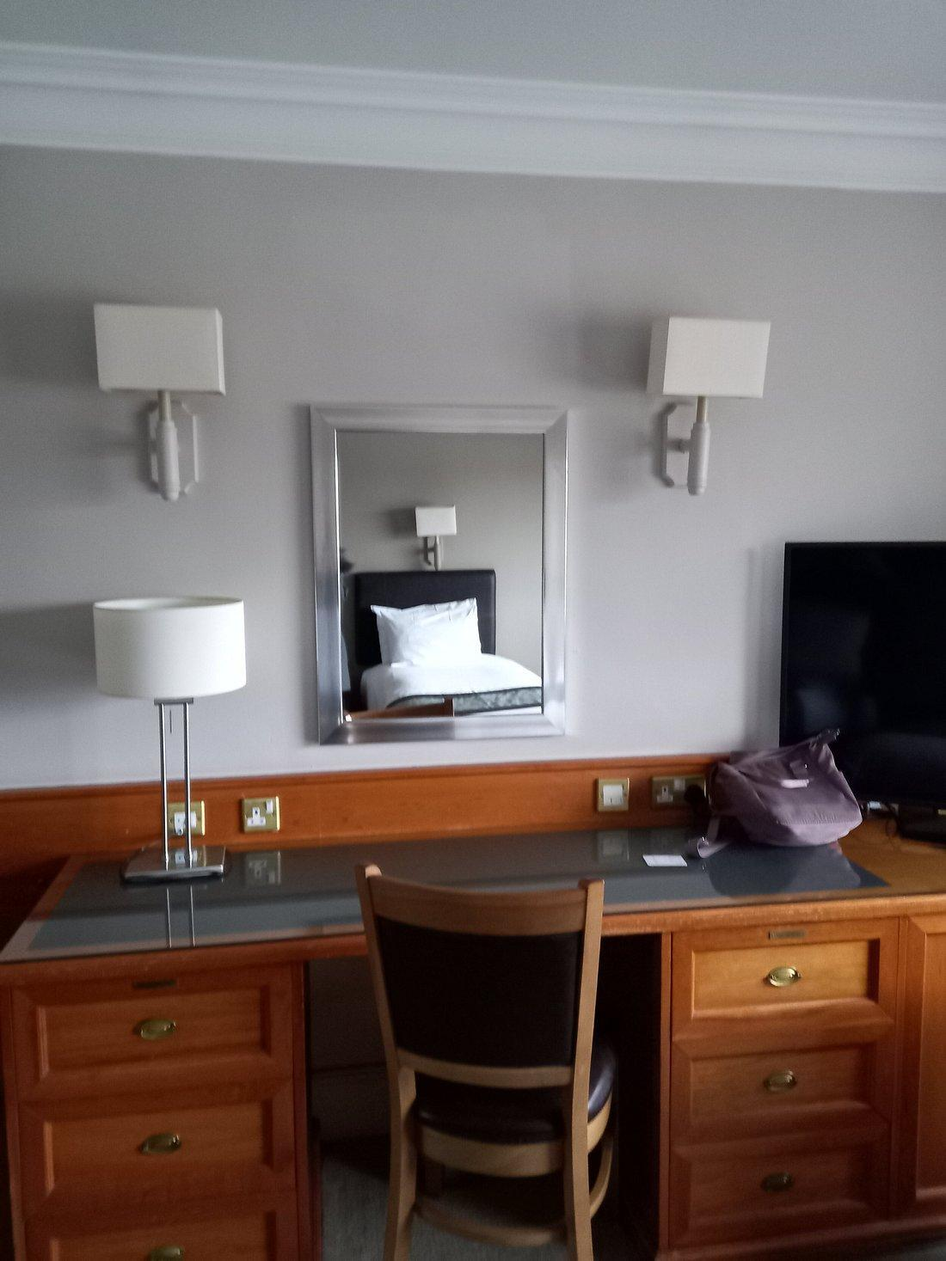chair: (374, 879, 617, 1261)
clean_bed: (350, 569, 550, 718)
lamp: (97, 604, 245, 885), (97, 303, 230, 499), (662, 322, 763, 494)
organised_pillow: (383, 606, 484, 679)
organized table: (2, 825, 945, 1260)
